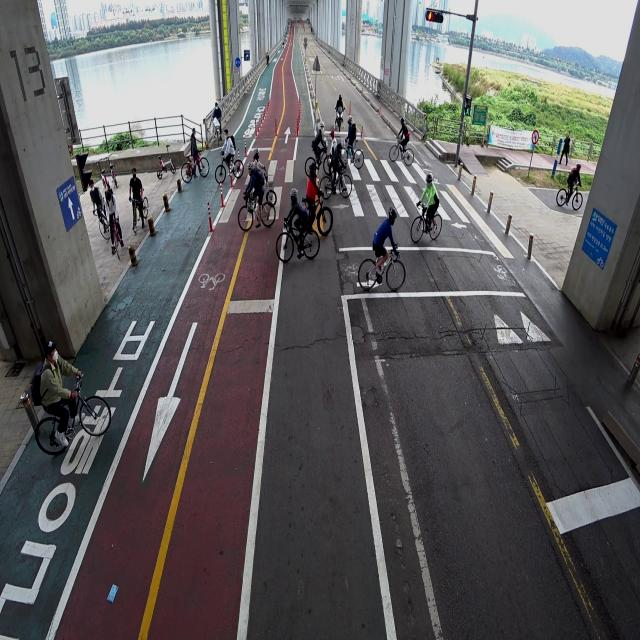Motorcycle: (333, 92, 346, 133)
